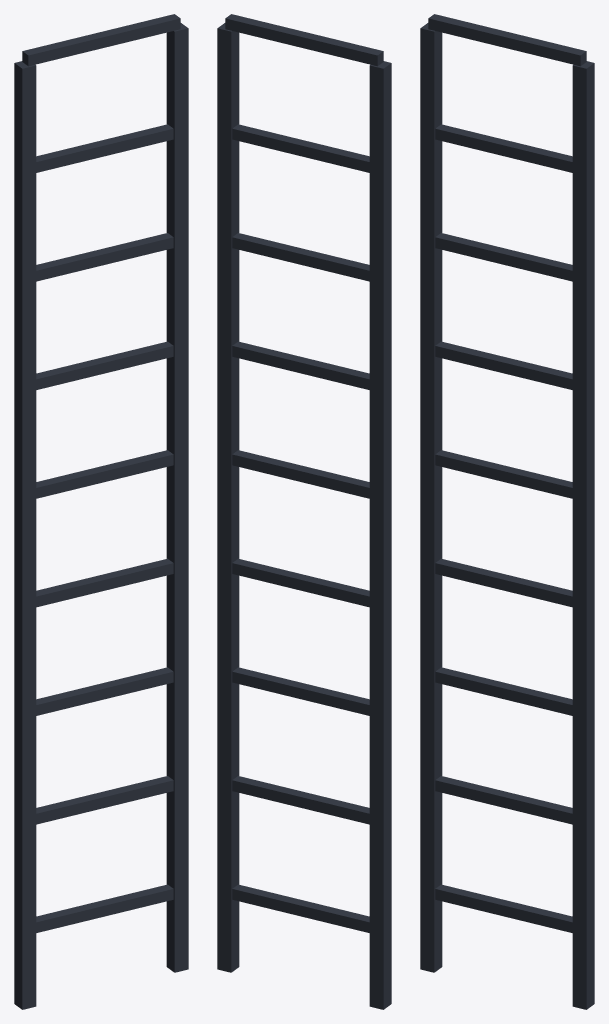
File: fire_ladder.glb
The picture shows the model from 3 angles, left to right: view 1: azimuth 30°, elevation 25°; view 2: azimuth 150°, elevation 25°; view 3: azimuth 330°, elevation 25°; orthographic projection.
Visible parts, largest first — view 1: fire_ladder; view 2: fire_ladder; view 3: fire_ladder.
Part boxes in pixels (bbox=[...]): fire_ladder: bbox=[14, 14, 188, 1009]; fire_ladder: bbox=[217, 14, 391, 1009]; fire_ladder: bbox=[420, 14, 594, 1009].
Size of the model in its own units: 0.48 by 2.63 by 0.04.
Materials: 1 (1 with a texture image).
